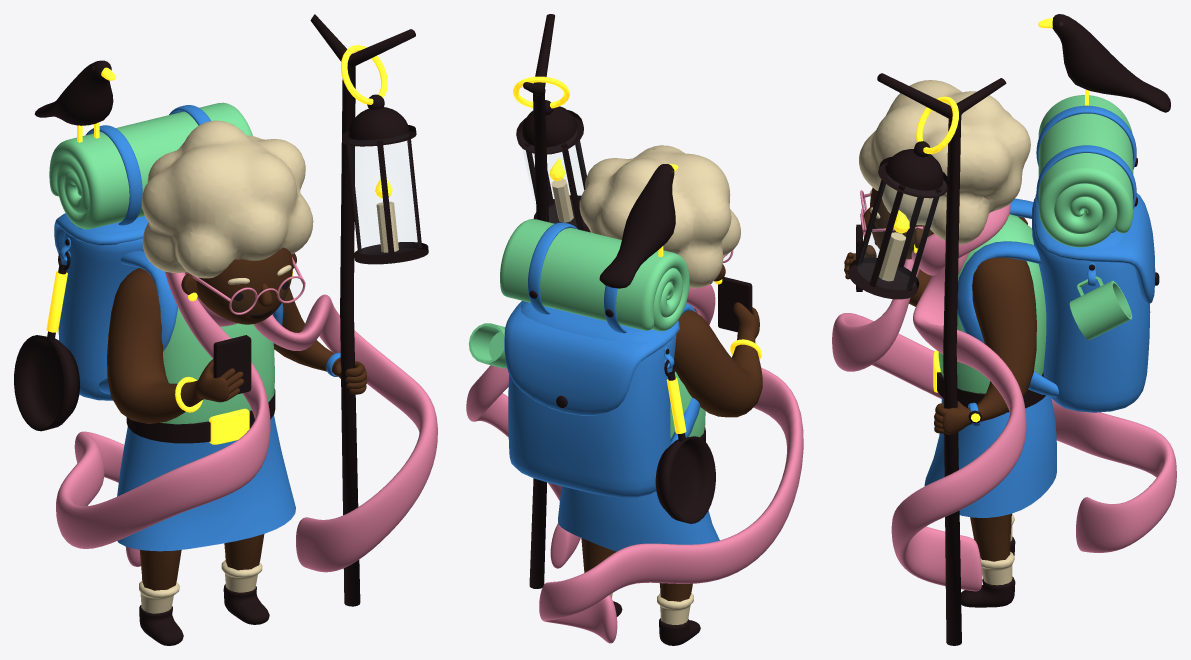
File: OldLadyAdventurer.fbx
3 renders of one model, left to right at view 1: azimuth 30°, elevation 25°; view 2: azimuth 150°, elevation 25°; view 3: azimuth 270°, elevation 25°, orthographic. The views are drawn at different scales.
Parts seen in each view (by area): view 1: Shawl, Mball, Skirt, Circle.005, Arm_R, Backpack, Staff, Cylinder.010, Torso, Head, Crow, Legs (+16 smaller); view 2: Shawl, Backpack, Circle.005, Mball, Backpack-Latch, Arm_R, Skirt, Crow, Cylinder.010, Staff, SleepingMat.003, Mobile (+13 smaller); view 3: Shawl, Mball, Backpack, Circle.005, Staff, Arm_L, Skirt, Crow, Backpack-Latch, Cube.005, Torso, Cup-01 (+14 smaller).
Boxes of the visible parts, <box> form: Shawl: <box>56,271,437,572</box>; Mball: <box>141,120,313,278</box>; Skirt: <box>117,415,295,551</box>; Circle.005: <box>49,102,252,229</box>; Arm_R: <box>107,268,228,423</box>; Backpack: <box>58,216,148,400</box>; Staff: <box>310,14,415,606</box>; Cylinder.010: <box>14,335,79,431</box>; Torso: <box>160,307,274,424</box>; Head: <box>196,247,292,324</box>; Crow: <box>34,60,113,125</box>; Legs: <box>139,534,264,590</box>; Shawl: <box>466,284,803,643</box>; Backpack: <box>508,301,676,497</box>; Circle.005: <box>500,219,689,331</box>; Mball: <box>579,145,740,288</box>; Backpack-Latch: <box>504,301,679,415</box>; Arm_R: <box>674,302,762,417</box>; Skirt: <box>558,486,719,551</box>; Crow: <box>599,164,675,288</box>; Cylinder.010: <box>655,436,715,523</box>; Staff: <box>523,14,554,588</box>; SleepingMat.003: <box>528,222,627,333</box>; Mobile: <box>718,277,752,332</box>; Shawl: <box>832,204,1176,591</box>; Mball: <box>859,80,1030,244</box>; Backpack: <box>1032,198,1150,412</box>; Circle.005: <box>1038,95,1133,247</box>; Staff: <box>877,73,1006,645</box>; Arm_L: <box>942,257,1036,434</box>; Skirt: <box>924,395,1056,517</box>; Crow: <box>1052,14,1170,112</box>; Backpack-Latch: <box>1034,193,1155,304</box>; Cube.005: <box>957,198,1058,397</box>; Torso: <box>938,214,1046,393</box>; Cup-01: <box>1069,280,1132,340</box>.
Size of the model in its own units: 119 by 198 by 106.
